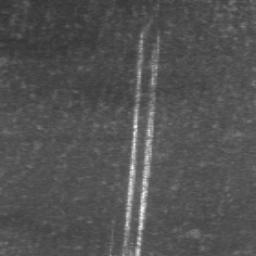Bright scratch: (135, 40, 159, 256), (122, 33, 143, 256)
